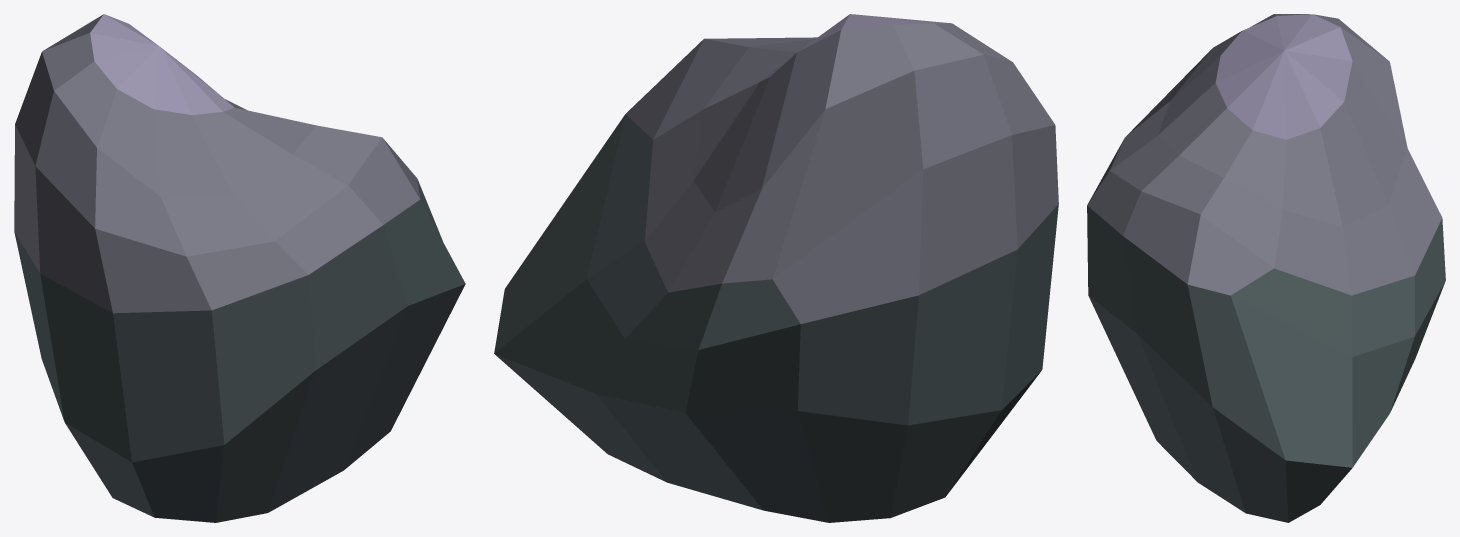
Rendered from Rock_03.fbx.
3 views of the same model, side by side, from view 1: azimuth 30°, elevation 25°; view 2: azimuth 150°, elevation 25°; view 3: azimuth 270°, elevation 25° (orthographic). The views are drawn at different scales.
Visible parts, largest first — view 1: Stone 03; view 2: Stone 03; view 3: Stone 03.
Part boxes in pixels (<box>): Stone 03: <box>14,14,465,522</box>; Stone 03: <box>494,14,1058,522</box>; Stone 03: <box>1087,14,1445,522</box>.
Bounding box in the file's own units: 1001 × 961 × 805.
